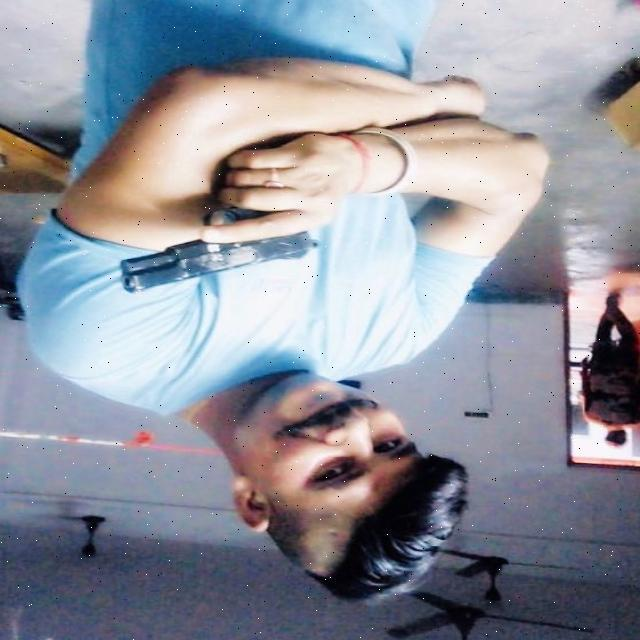gun: (109, 174, 326, 303)
